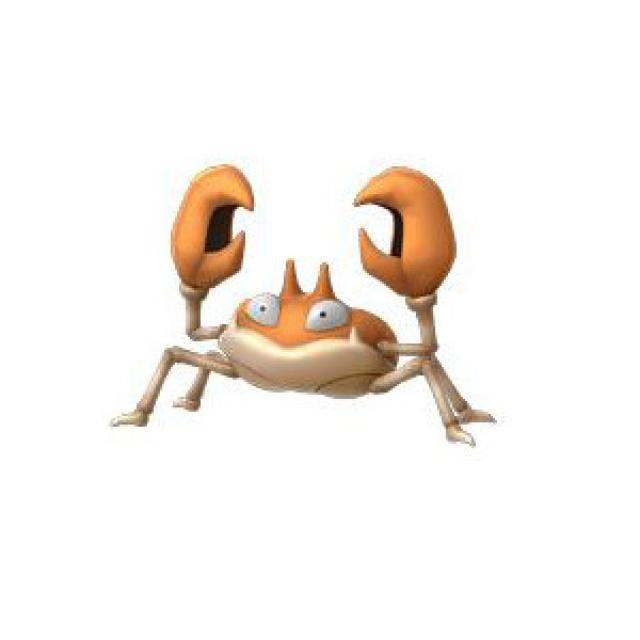Krabby: (163, 184, 464, 420)
